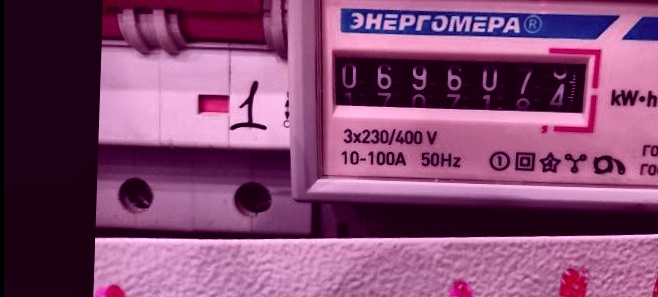0: (338, 59, 360, 90), (480, 63, 500, 92)
4: (547, 80, 567, 110)
6: (444, 62, 465, 93), (374, 60, 394, 90)
7: (515, 63, 534, 94)
9: (409, 61, 430, 91)
screen: (319, 32, 605, 134)
